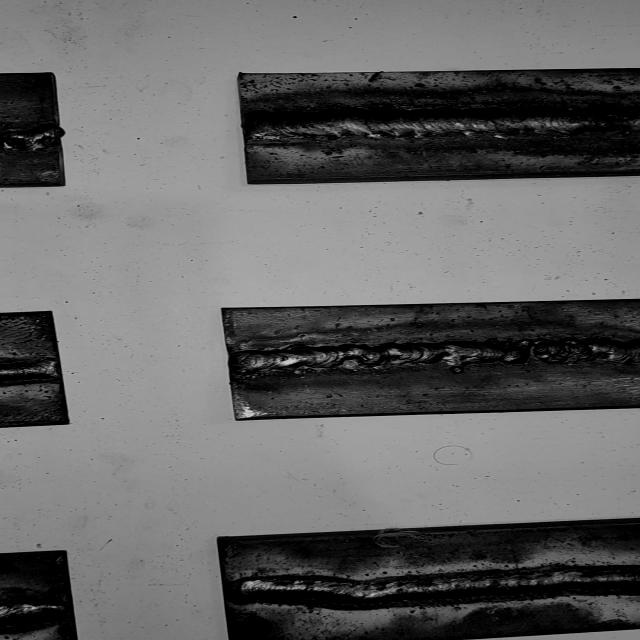Bad Weld: (231, 338, 640, 376), (246, 108, 640, 138)
Defect: (509, 328, 587, 382), (574, 99, 640, 147)
Good Weld: (237, 565, 640, 604)
